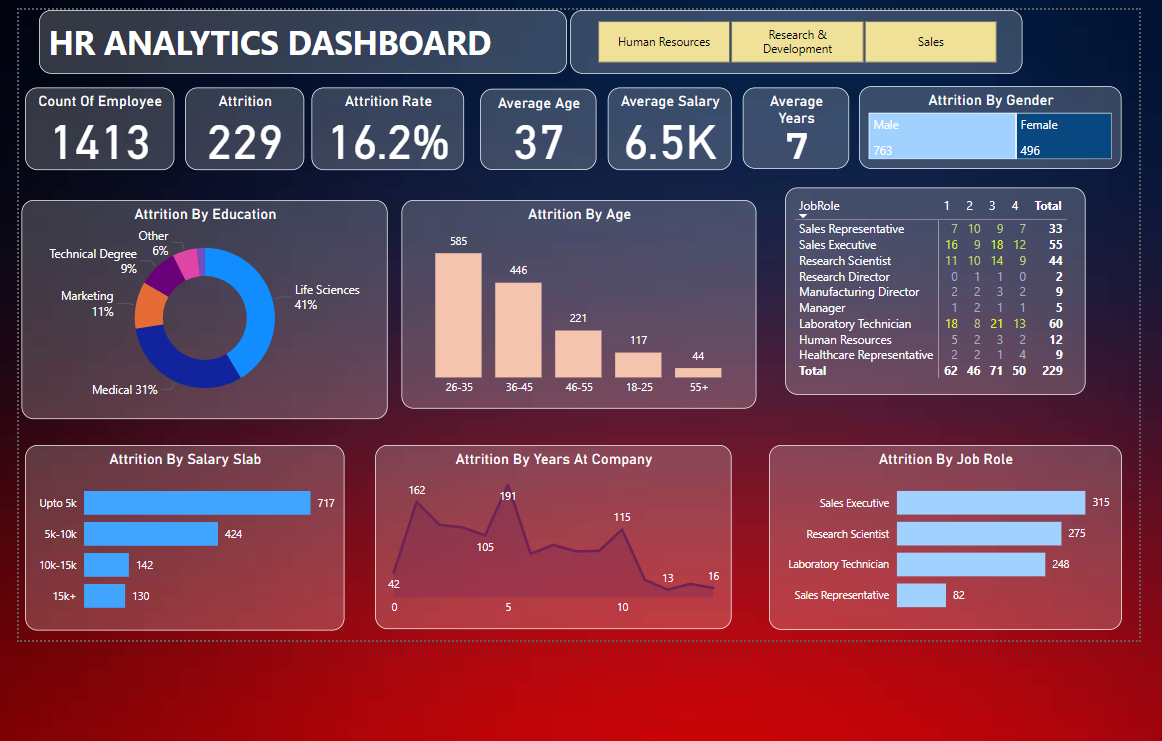

This screenshot's page, from the dashboard's own definition file:
{"tool":"powerbi","page":{"name":"Page 1","canvas":[1280,720],"ordinal":0},"visuals":[{"type":"card","title":"Count Of Employee","fields":{"Values":["CountNonNull(HR_Analytics.EmpID)"]},"box":[7.1,88.6,170,94.3],"z":0},{"type":"card","title":"Average Age","fields":{"Values":["Avg(HR_Analytics.Age)"]},"box":[527.1,90,132.9,92.9],"z":1000},{"type":"card","title":"Attrition","fields":{"Values":["Sum(HR_Analytics.AttritionCount)"]},"box":[190,88.6,135.7,94.3],"z":2000},{"type":"card","title":"Attrition Rate","fields":{"Values":["HR_Analytics.AttritionRate"]},"box":[334.3,88.6,174.3,94.3],"z":3000},{"type":"card","title":"Average Years","fields":{"Values":["Avg(HR_Analytics.YearsAtCompany)"]},"box":[827.1,88.6,121.4,92.9],"z":4000},{"type":"card","title":"Average Salary","fields":{"Values":["Avg(HR_Analytics.MonthlyIncome)"]},"box":[672.9,88.6,141.4,94.3],"z":5000},{"type":"donutChart","title":"Attrition By Education","fields":{"Y":["CountNonNull(HR_Analytics.Attrition)"],"Category":["HR_Analytics.EducationField"]},"box":[2.9,217.1,418.6,250],"z":6000},{"type":"clusteredColumnChart","title":"Attrition By Age","fields":{"Y":["CountNonNull(HR_Analytics.Attrition)"],"Category":["HR_Analytics.AgeGroup"]},"box":[437.1,217.1,405.7,238.6],"z":7000},{"type":"pivotTable","fields":{"Rows":["HR_Analytics.JobRole"],"Columns":["HR_Analytics.JobSatisfaction"],"Values":["Sum(HR_Analytics.AttritionCount)"]},"box":[875.7,202.9,342.9,237.1],"z":8000},{"type":"barChart","title":"Attrition By Salary Slab","fields":{"Category":["HR_Analytics.SalarySlab"],"Y":["CountNonNull(HR_Analytics.Attrition)"]},"box":[7.8,497.8,364.4,212.2],"z":9000},{"type":"clusteredBarChart","title":"Attrition By Job Role","fields":{"Y":["CountNonNull(HR_Analytics.Attrition)"],"Category":["HR_Analytics.JobRole"]},"box":[857.1,497.1,402.9,211.4],"z":10000},{"type":"areaChart","title":"Attrition By Years At Company","fields":{"Category":["HR_Analytics.YearsAtCompany"],"Y":["CountNonNull(HR_Analytics.Attrition)"]},"box":[407.1,497.1,407.1,210],"z":11000},{"type":"treemap","title":"Attrition By Gender","fields":{"Group":["HR_Analytics.Gender"],"Values":["CountNonNull(HR_Analytics.Attrition)"]},"box":[960,87.1,300,94.3],"z":12000},{"type":"slicer","fields":{"Values":["HR_Analytics.Department"]},"box":[630,0,517.1,72.9],"z":13000},{"type":"textbox","box":[22.9,0,602.9,72.9],"z":14000}]}

Visuals, with their boxes on the page's 1280x720 design canvas (x1, y1, x2, y2). These are canvas units, not pixel positions in the 1162x741 screenshot, which may show the page scaled, cropped or inside an application window:
"Count Of Employee" card: 7,89,177,183
"Average Age" card: 527,90,660,183
"Attrition" card: 190,89,326,183
"Attrition Rate" card: 334,89,509,183
"Average Years" card: 827,89,948,182
"Average Salary" card: 673,89,814,183
"Attrition By Education" donutChart: 3,217,422,467
"Attrition By Age" clusteredColumnChart: 437,217,843,456
pivotTable - HR_Analytics.JobRole x HR_Analytics.JobSatisfaction: 876,203,1219,440
"Attrition By Salary Slab" barChart: 8,498,372,710
"Attrition By Job Role" clusteredBarChart: 857,497,1260,708
"Attrition By Years At Company" areaChart: 407,497,814,707
"Attrition By Gender" treemap: 960,87,1260,181
slicer - HR_Analytics.Department: 630,0,1147,73
textbox: 23,0,626,73
